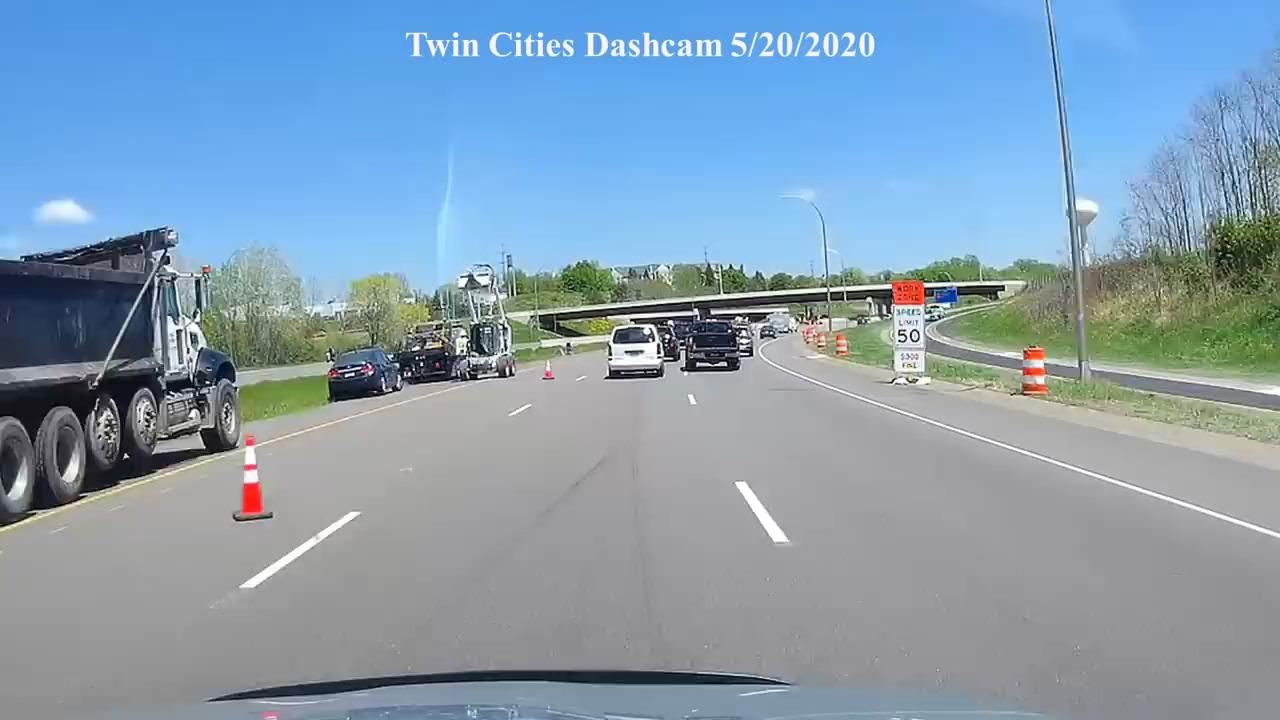car: (326, 346, 403, 403), (604, 324, 665, 379)
traffic cone: (231, 435, 273, 522), (1020, 346, 1049, 397), (834, 332, 849, 357), (542, 361, 556, 380), (817, 331, 829, 350)
